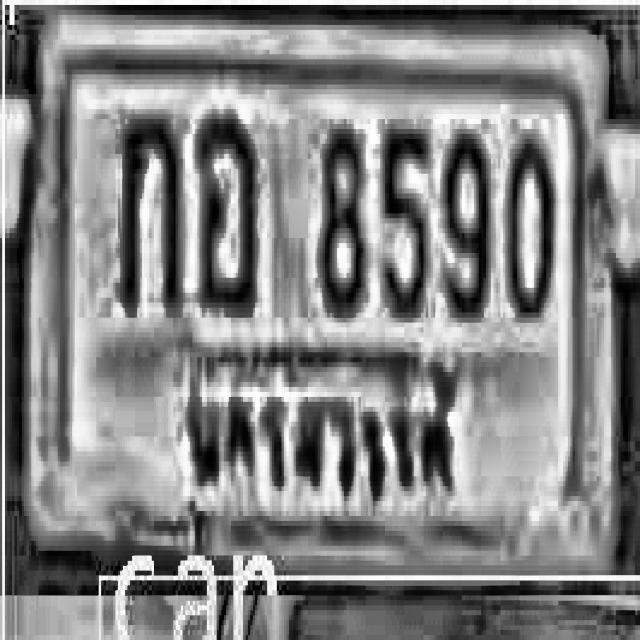license-plate: (24, 0, 622, 569)
